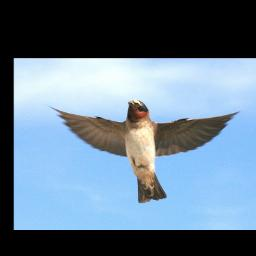Swallow: (46, 99, 241, 204)
